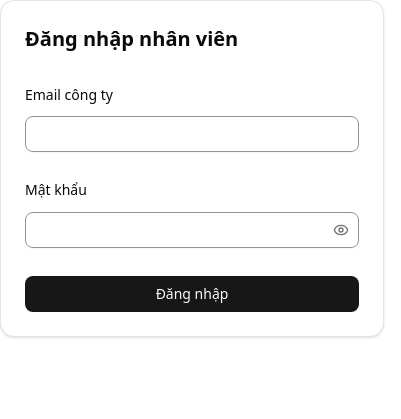
Scenario: fields › requires the email and the password
What coordinates should you click on to do the following:
click the button "Đăng nhập"
I would click on:
 (192, 294)
Its box is [25,276,359,312].
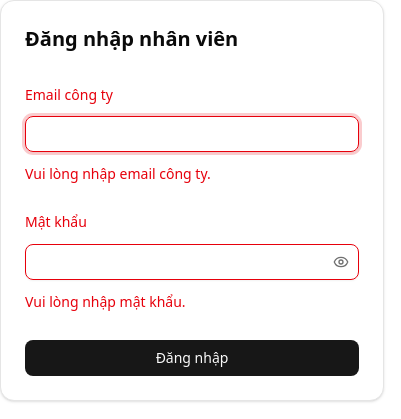
Check: the text "Vui lòng nhập email công ty." is shown, box [25,164,211,183]
Check: the text "Vui lòng nhập mật khẩu." is shown, box [25,292,186,310]
